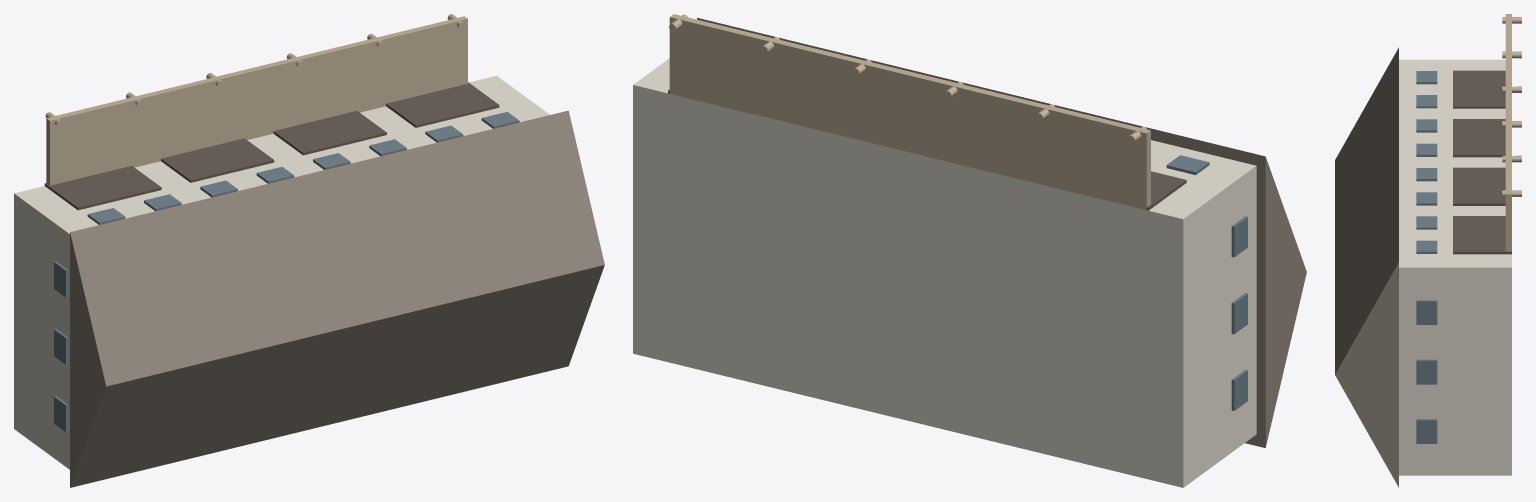
The model's file is r-102-fish-creek-rowing-boathouse.glb.
The picture shows the model from 3 angles, left to right: view 1: azimuth 30°, elevation 25°; view 2: azimuth 150°, elevation 25°; view 3: azimuth 270°, elevation 25°; orthographic projection. The views are drawn at different scales.
Visible parts, largest first — view 1: roof, dock, walls, bay-doors, windows; view 2: walls, dock, roof, windows, bay-doors; view 3: walls, roof, bay-doors, windows, dock.
Part boxes in pixels (left/top/right/bottom): roof: left=70, top=110, right=604, bottom=487; dock: left=45, top=14, right=467, bottom=185; walls: left=14, top=75, right=549, bottom=469; bay-doors: left=44, top=82, right=499, bottom=210; windows: left=54, top=111, right=519, bottom=432; walls: left=633, top=58, right=1256, bottom=487; dock: left=669, top=14, right=1150, bottom=209; roof: left=697, top=17, right=1306, bottom=447; windows: left=1166, top=155, right=1247, bottom=410; bay-doors: left=668, top=89, right=1186, bottom=210; walls: left=1399, top=59, right=1511, bottom=475; roof: left=1335, top=47, right=1398, bottom=487; bay-doors: left=1453, top=70, right=1511, bottom=254; windows: left=1416, top=71, right=1437, bottom=443; dock: left=1502, top=14, right=1521, bottom=251.
Size of the model in its own units: 31000 by 18599 by 11399.
